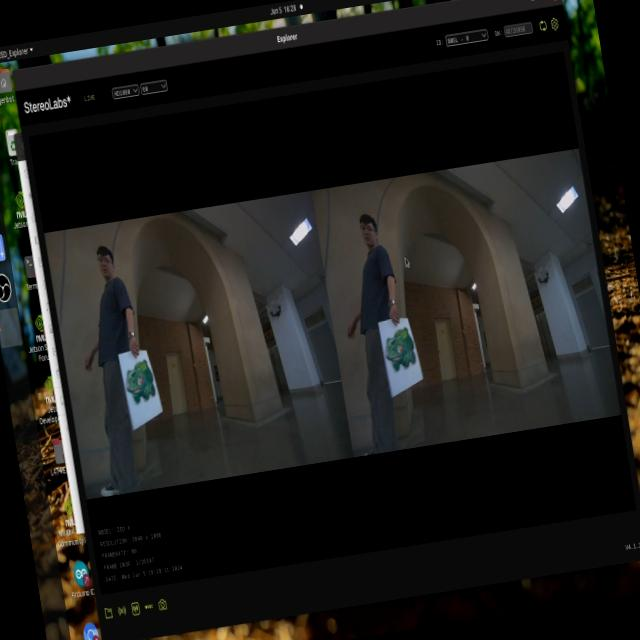green: (117, 356, 171, 412), (382, 328, 419, 384)
